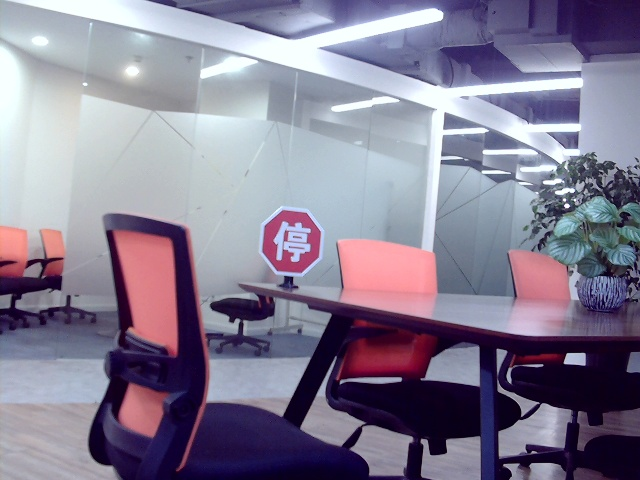stop: (273, 216, 309, 263)
